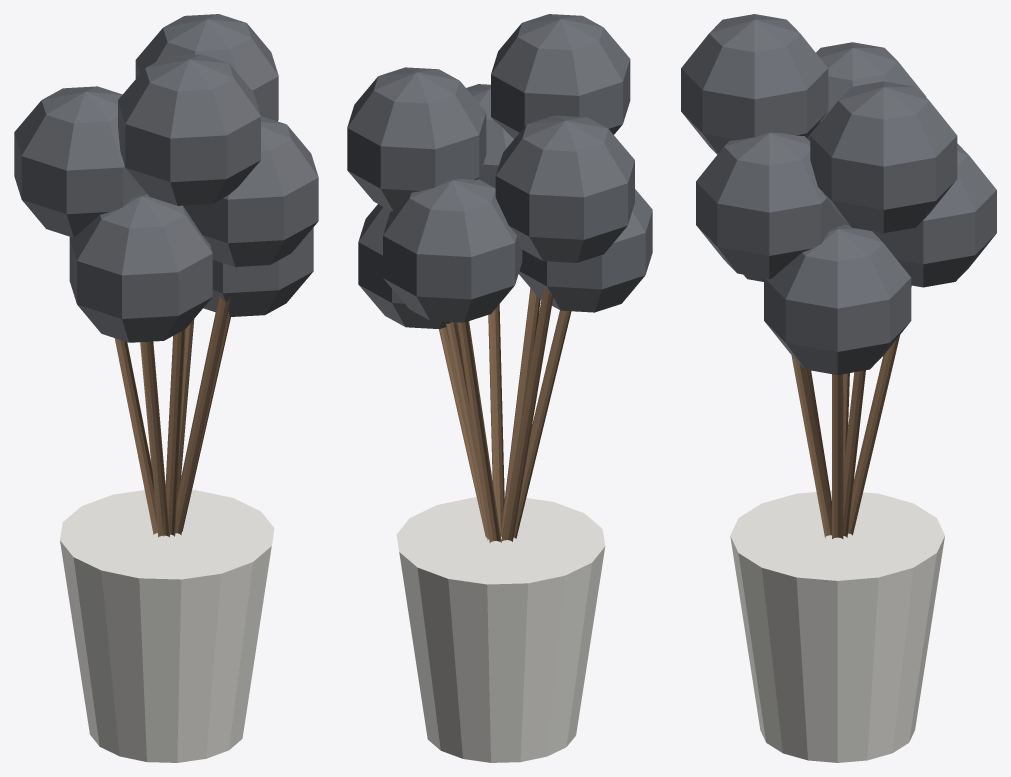
File: bank-vault-heist-kit-lobby-plant-46a82c9a__25095.glb
The picture shows the model from 3 angles, left to right: view 1: azimuth 30°, elevation 25°; view 2: azimuth 150°, elevation 25°; view 3: azimuth 270°, elevation 25°; orthographic projection. The views are drawn at different scales.
Parts seen in each view (by area): view 1: lobby-plant; view 2: lobby-plant; view 3: lobby-plant.
Boxes of the visible parts, x1=… form: lobby-plant: x1=14, y1=14, x2=318, y2=762; lobby-plant: x1=347, y1=14, x2=652, y2=762; lobby-plant: x1=681, y1=14, x2=996, y2=762.
Size of the model in its own units: 0.7393 by 1.8 by 0.7348.
